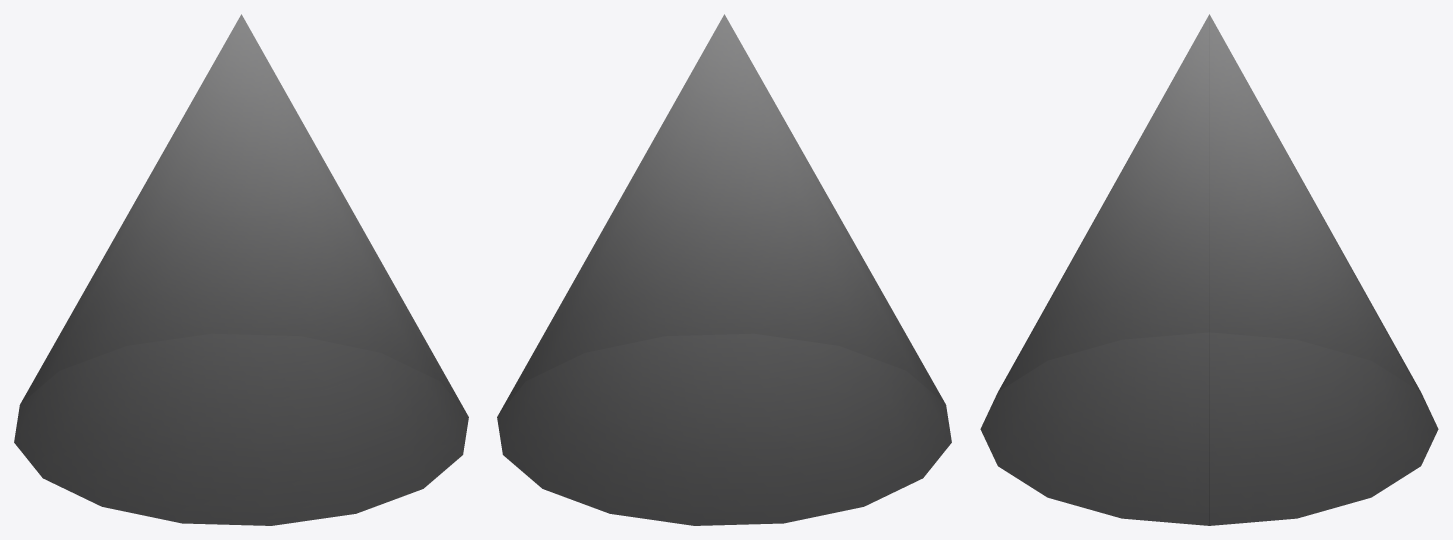
Rendered from VolumetricLighting Cone_Green.fbx.
The picture shows the model from 3 angles, left to right: view 1: azimuth 30°, elevation 25°; view 2: azimuth 150°, elevation 25°; view 3: azimuth 270°, elevation 25°; orthographic projection.
Parts seen in each view (by area): view 1: pCone1; view 2: pCone1; view 3: pCone1.
Boxes of the visible parts, x1,y1,x2,y2 form: pCone1: (14, 14, 468, 525); pCone1: (497, 14, 951, 525); pCone1: (980, 14, 1438, 525).
Size of the model in its own units: 200 by 200 by 200.
1 material, 1 textured.
